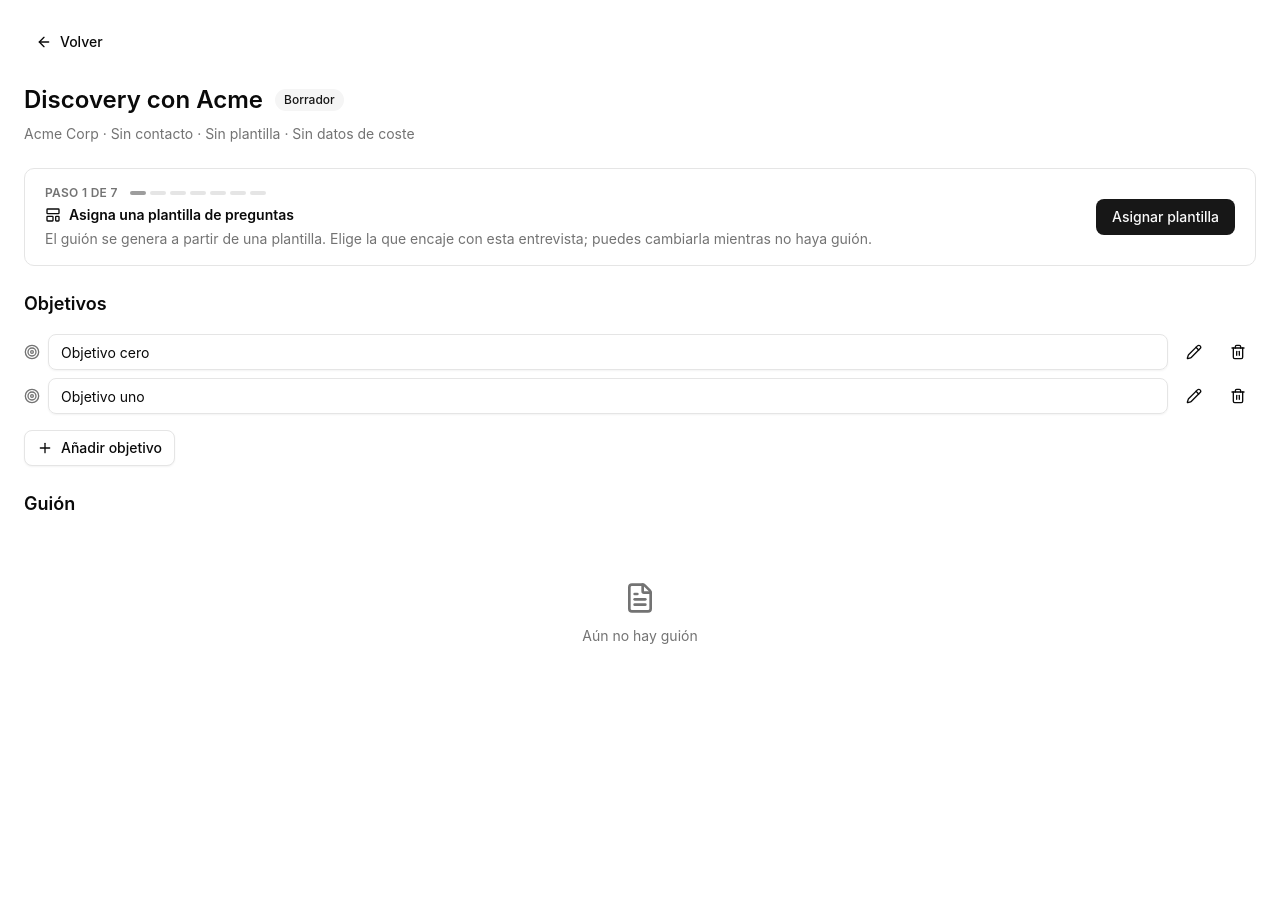
Test: ObjectivesSection › override dialog opening › renders a pencil button per objective with its aria-label that opens the compliance dialog
Click the 1st button named "Editar cumplimiento del objetivo": {"x": 1194, "y": 352} [1176,334,1212,370]
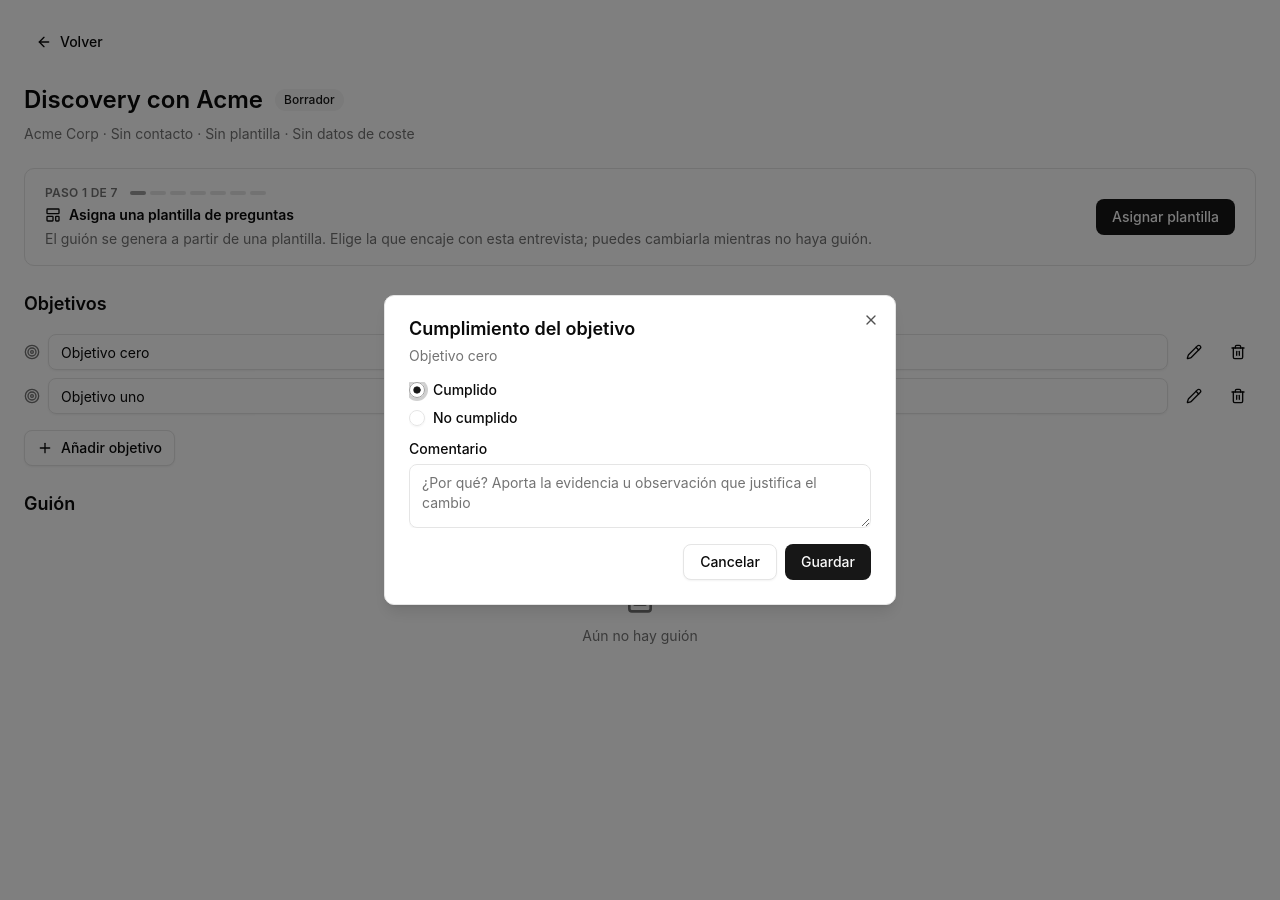
Now the heading "Cumplimiento del objetivo" is shown, box [409,318,635,339]
Now the text "Objetivo cero" is shown, box [409,347,497,364]
